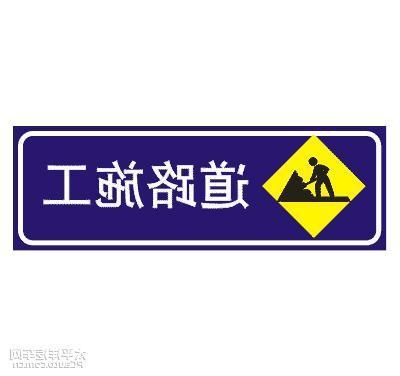sign: (16, 129, 382, 247)
